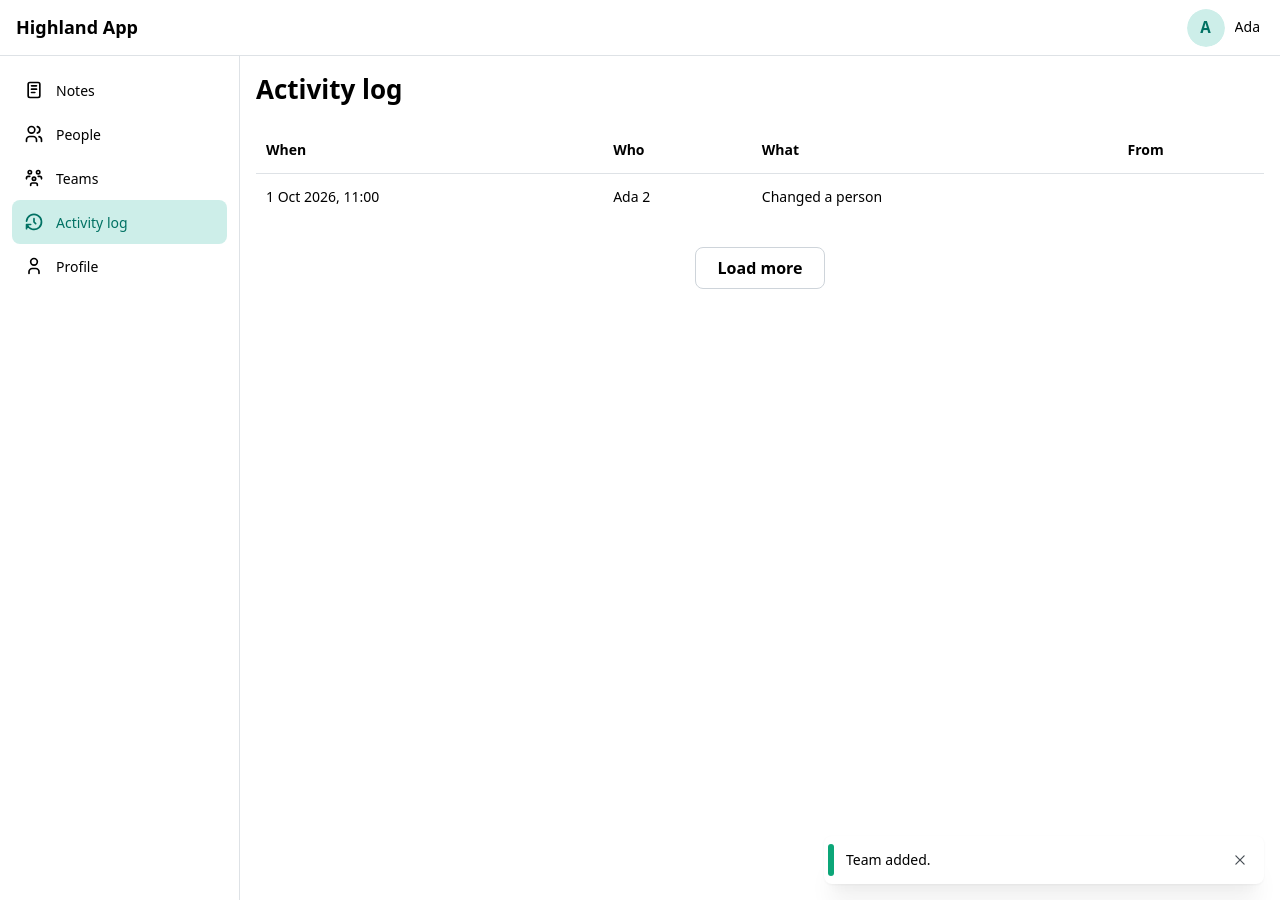
Test: the activity log loads more with the cursor
Click the button "Load more": (760, 268) [694,248,825,290]
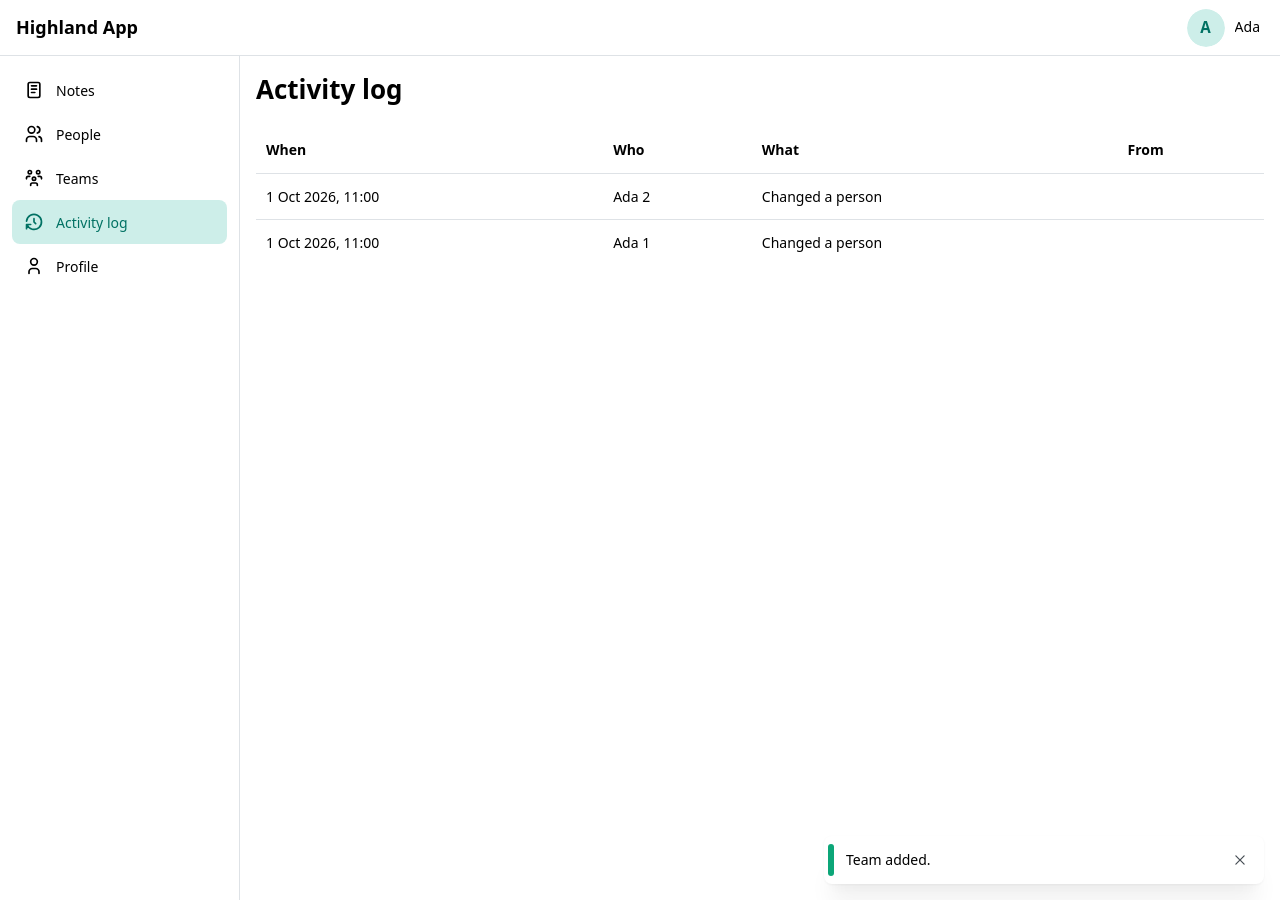
Check: the text "Ada 1" is shown, box [603,220,752,266]
Check: the button "Load more" is gone
